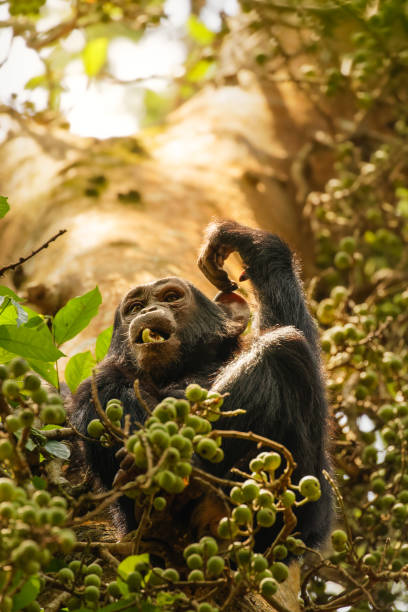chimpanzee: (95, 264, 259, 400)
